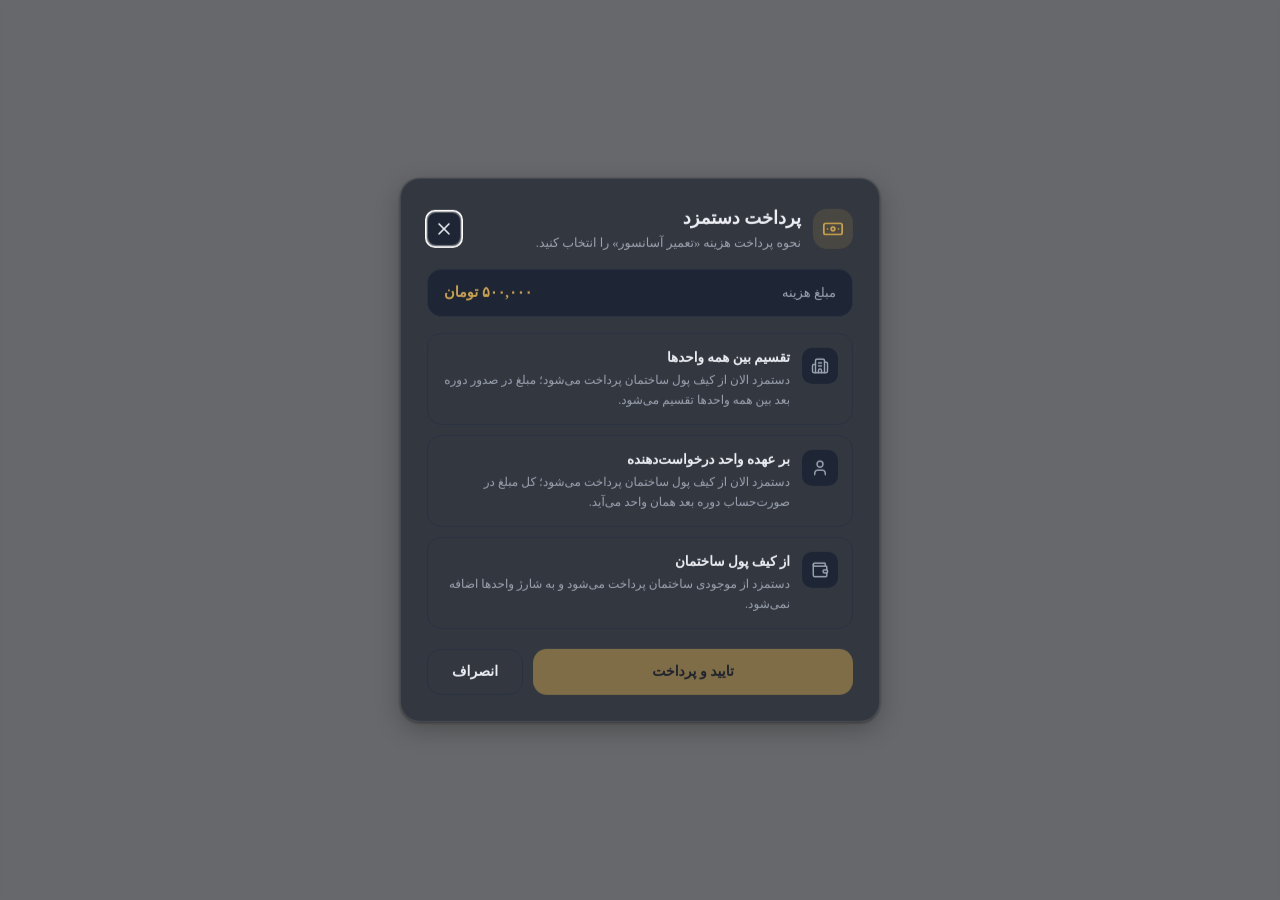
Test case: SettleRequestModal › keeps submission disabled until a payment method is picked
The width and height of the screenshot is (1280, 900).
Check: the button "تایید و پرداخت" is disabled, box [533,649,853,695]
Step 1. Click the text "تقسیم بین همه واحدها" → (728,357), box [667,349,790,364]
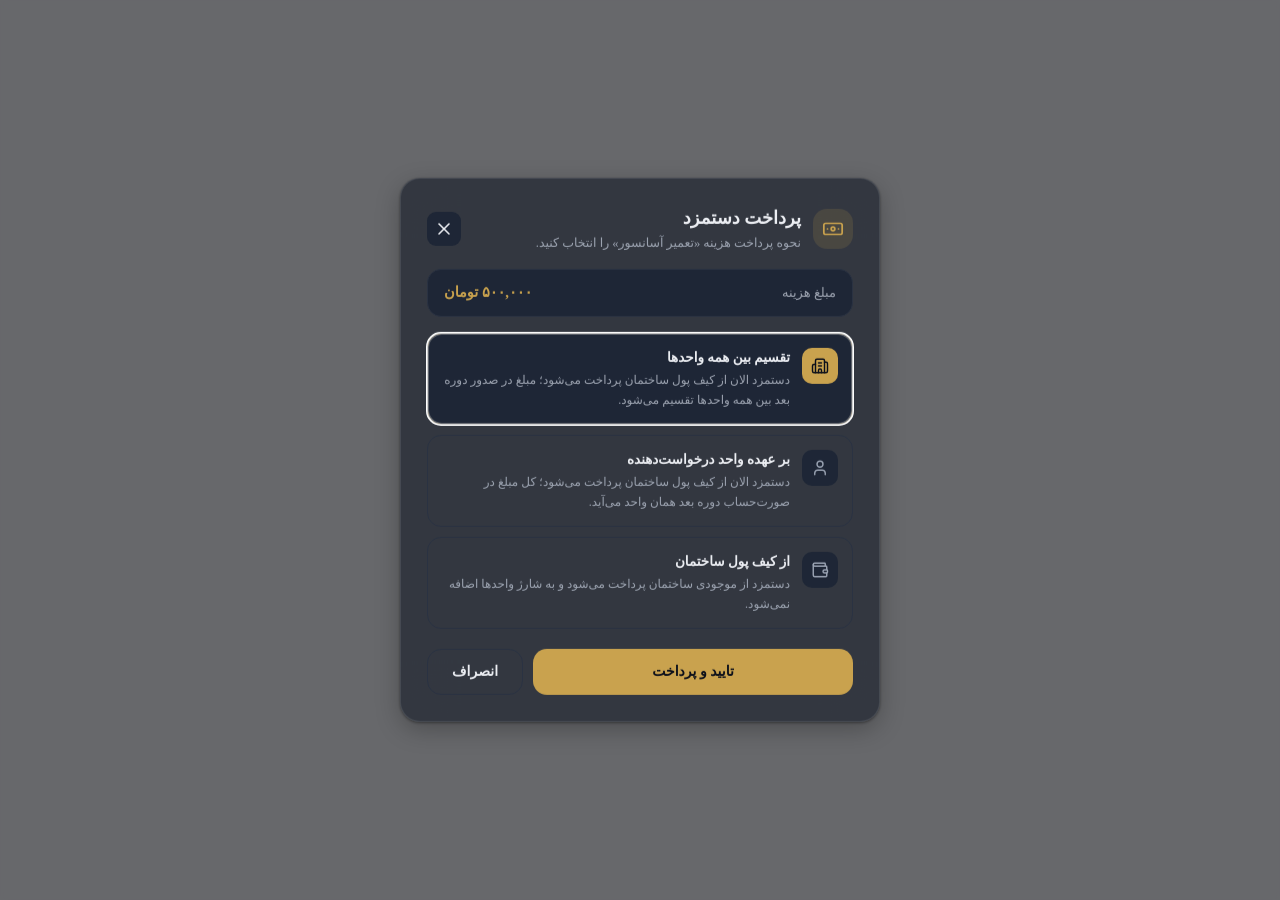
Check: the button "تایید و پرداخت" is enabled, box [533,649,853,695]
